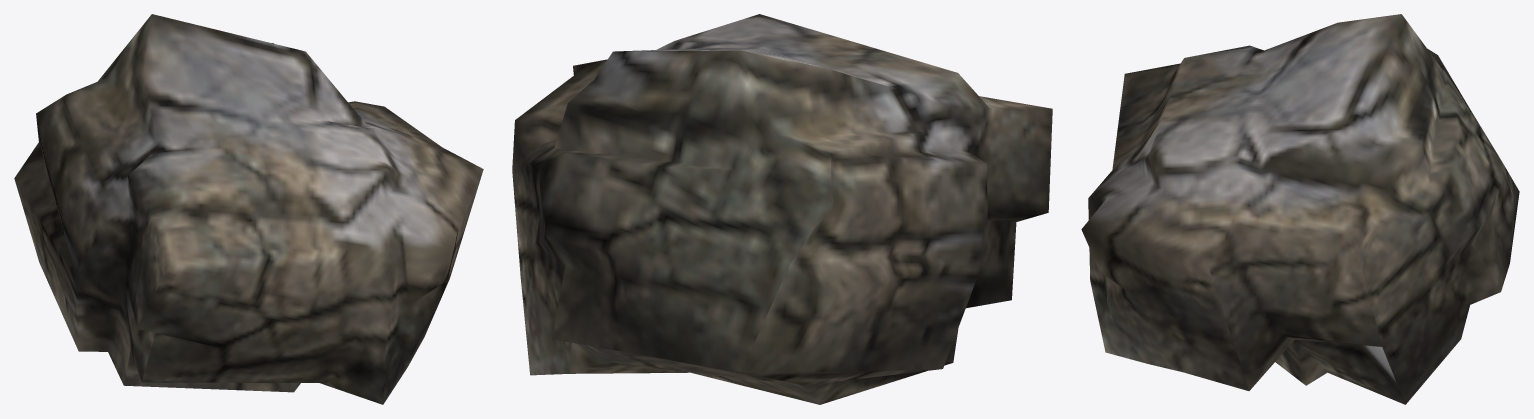
Rendered from Rock4B.FBX.
3 views of the same model, side by side, from view 1: azimuth 30°, elevation 25°; view 2: azimuth 150°, elevation 25°; view 3: azimuth 270°, elevation 25° (orthographic). The views are drawn at different scales.
Parts seen in each view (by area): view 1: Rock4B; view 2: Rock4B; view 3: Rock4B.
Part boxes in pixels (x1,y1,x2,y2): Rock4B: [14, 14, 483, 404]; Rock4B: [512, 14, 1052, 404]; Rock4B: [1081, 14, 1519, 404].
Size of the model in its own units: 1.51 by 1.23 by 1.53.
